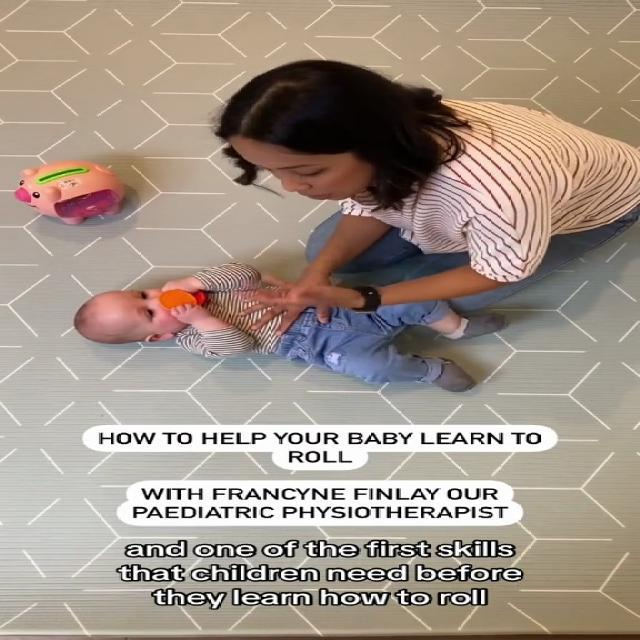baby: (72, 260, 513, 406)
